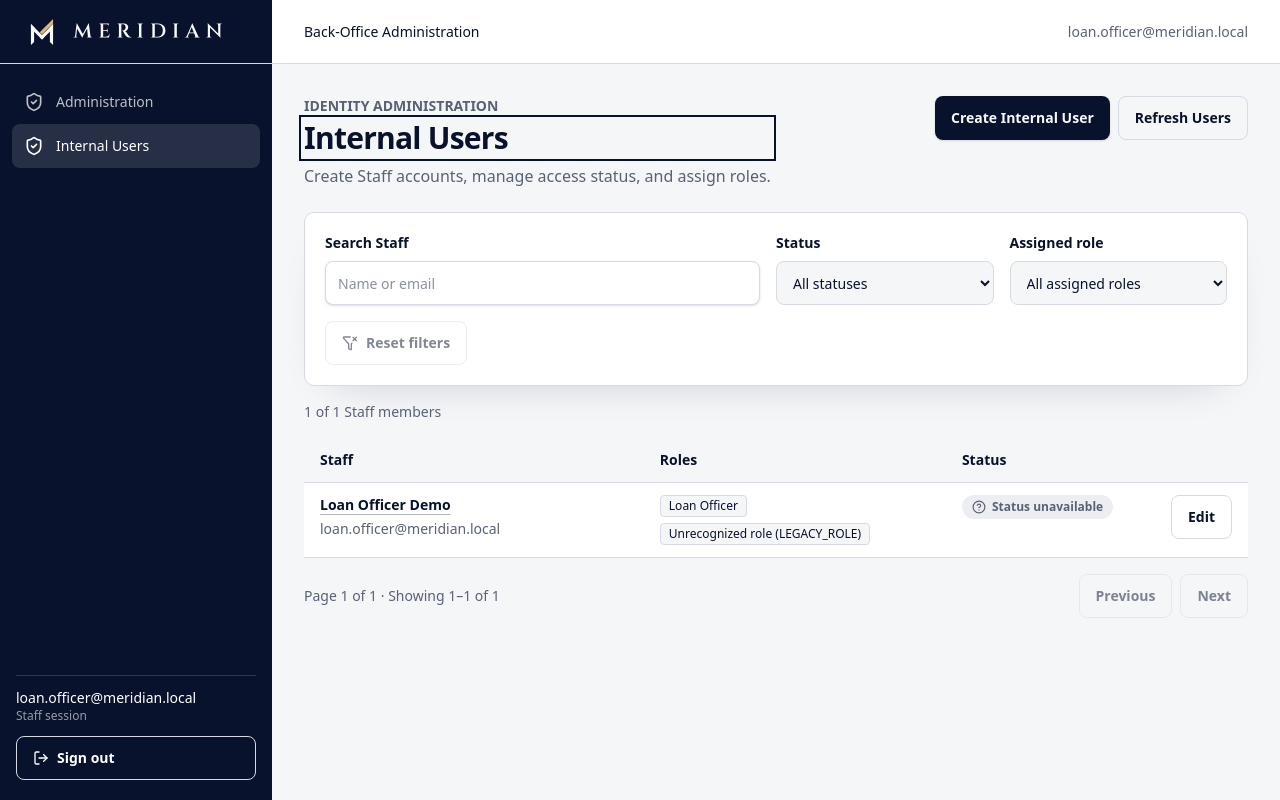
Test case: Internal User administration page › renders a deterministic-ID user without entering the unavailable state
expect the heading "Internal Users" is shown: met, box [304,117,508,158]
What coordinates should you click on to do the following:
click the button with aria-label "Manage Loan Officer Demo"
I would click on:
 (385, 505)
Its box is [320,495,451,515].
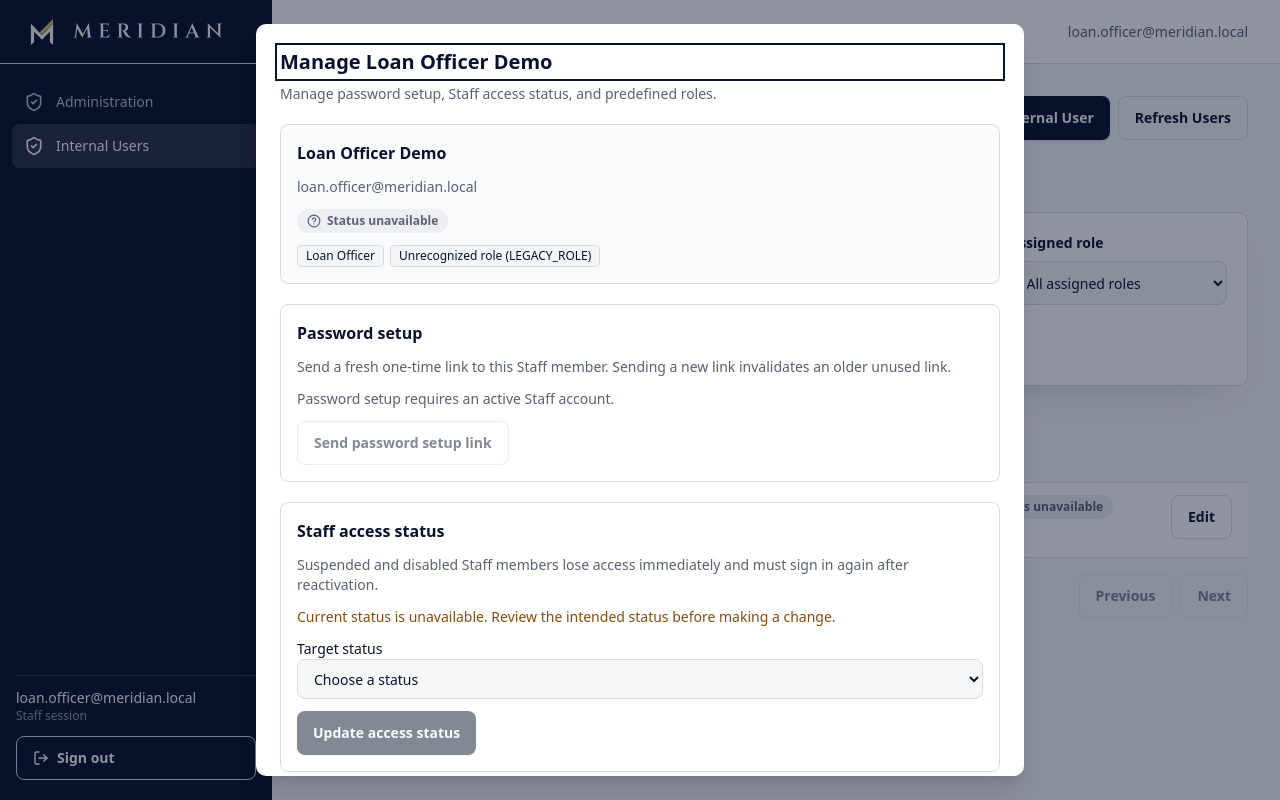
expect the text "loan.officer@meridian.local" below "Page" is shown: met, box [16,688,196,707]
expect the text "Current status is unavailable" is shown: met, box [297,607,836,626]
expect the list item "Unrecognized role (LEGACY_ROLE)" is shown: met, box [390,245,600,267]
